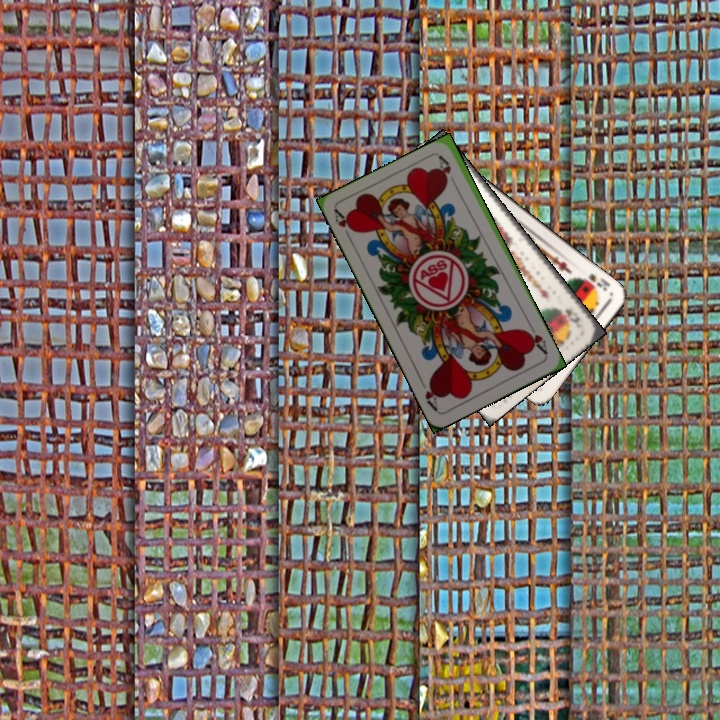HA: (330, 206, 358, 245), (521, 320, 550, 357)
SK: (584, 269, 613, 294), (560, 305, 584, 329)
